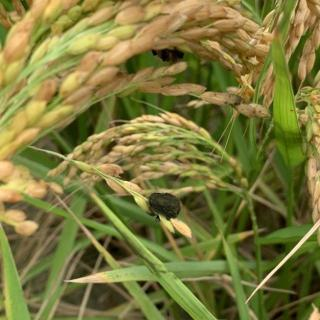Gosong-Palsu: (147, 190, 181, 222), (152, 46, 185, 62)
